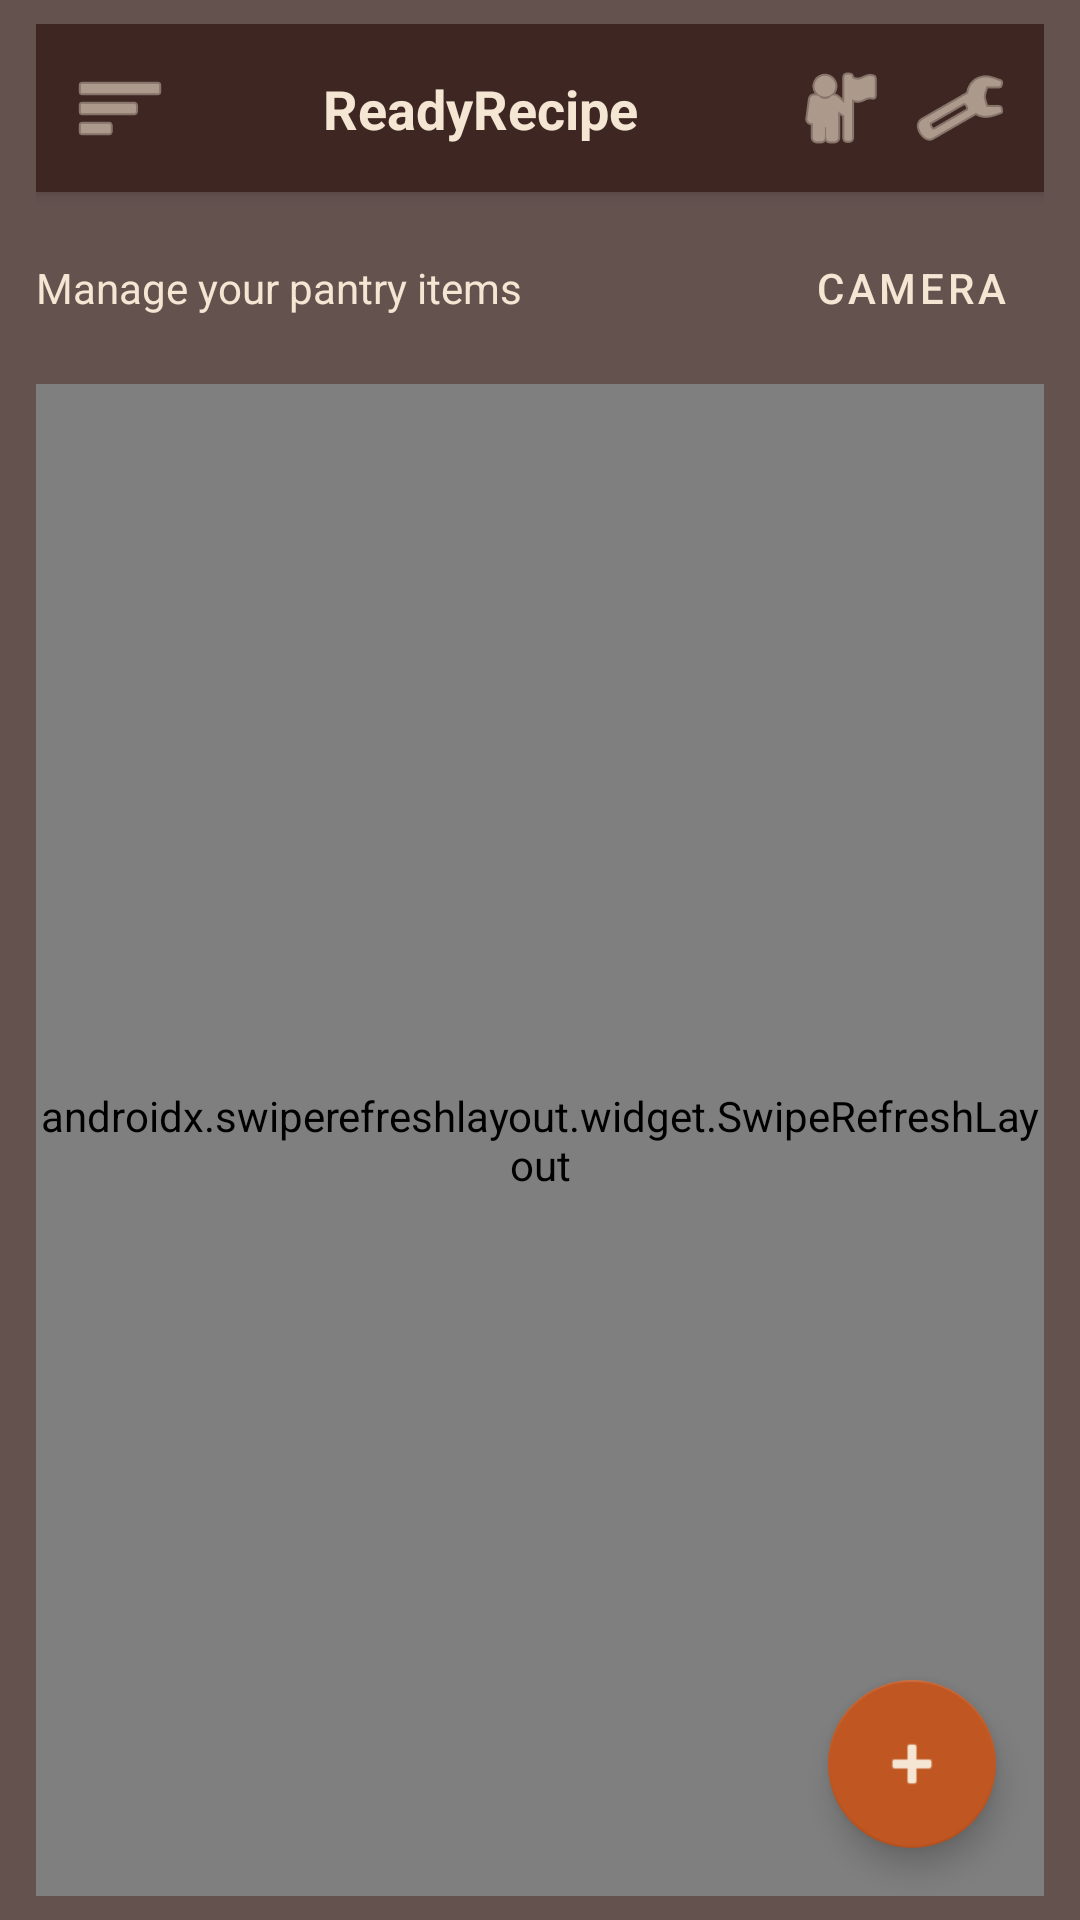

Where icons sit on this 1080px×1920px app screen, as (x1, y1, x2, y2):
Add pantry item: (828, 1680, 996, 1848)
Menu: (79, 82, 161, 135)
Profile: (805, 72, 877, 144)
Settings: (917, 75, 1003, 141)
